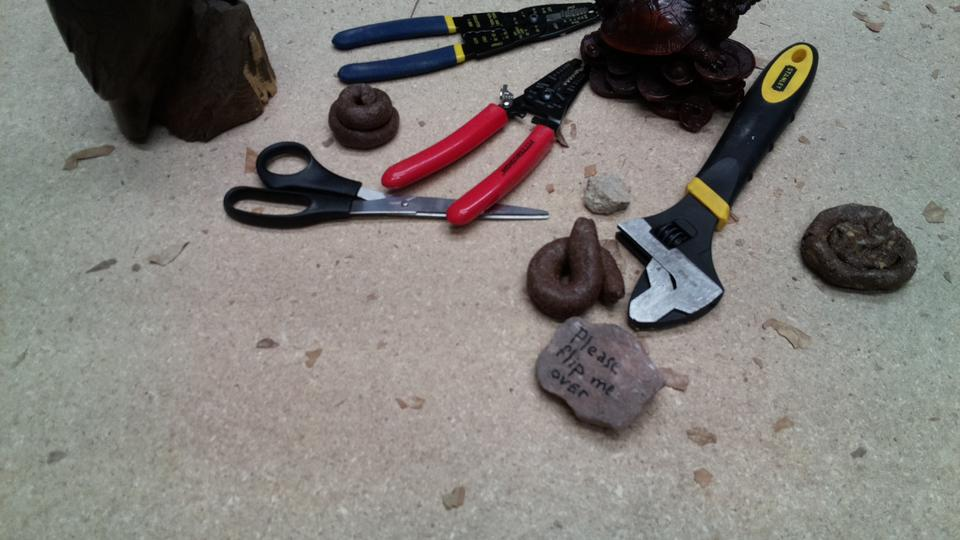poop: (521, 215, 627, 325), (798, 202, 919, 297), (326, 79, 402, 158)
